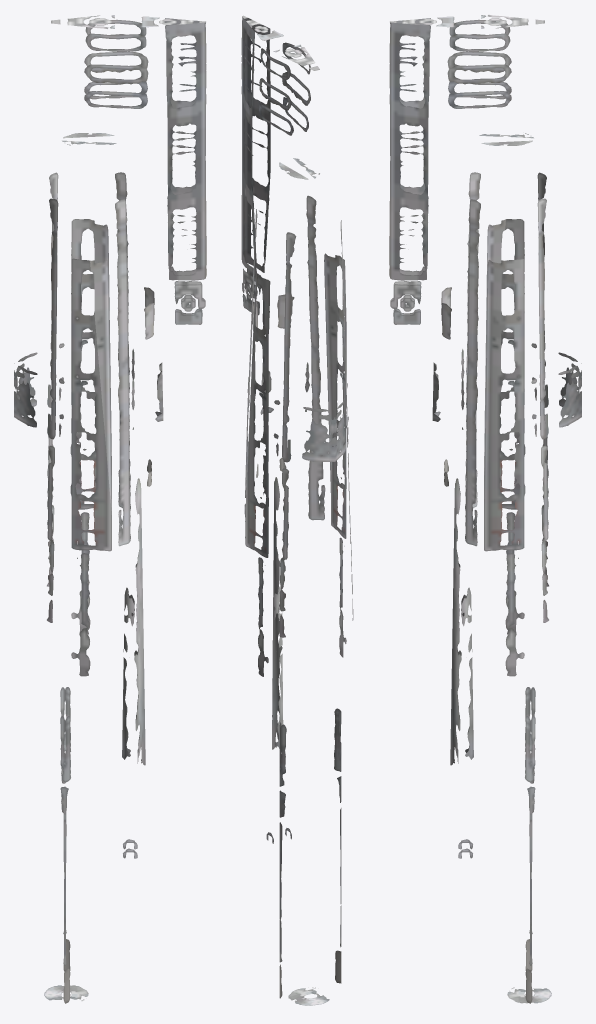
File: wp_hvy_stun_cannon_l2.fbx
3 views of the same model, side by side, from view 1: azimuth 90°, elevation 25°; view 2: azimuth 210°, elevation 25°; view 3: azimuth 270°, elevation 25° (orthographic). The views are drawn at different scales.
Parts seen in each view (by area): view 1: mesh_node; view 2: mesh_node; view 3: mesh_node.
Part boxes in pixels (x1,y1,x2,y2): mesh_node: (14, 15, 206, 1003); mesh_node: (241, 15, 353, 1005); mesh_node: (389, 15, 581, 1003).
Bounding box in the file's own units: 0.0589 × 0.6093 × 0.1123.
